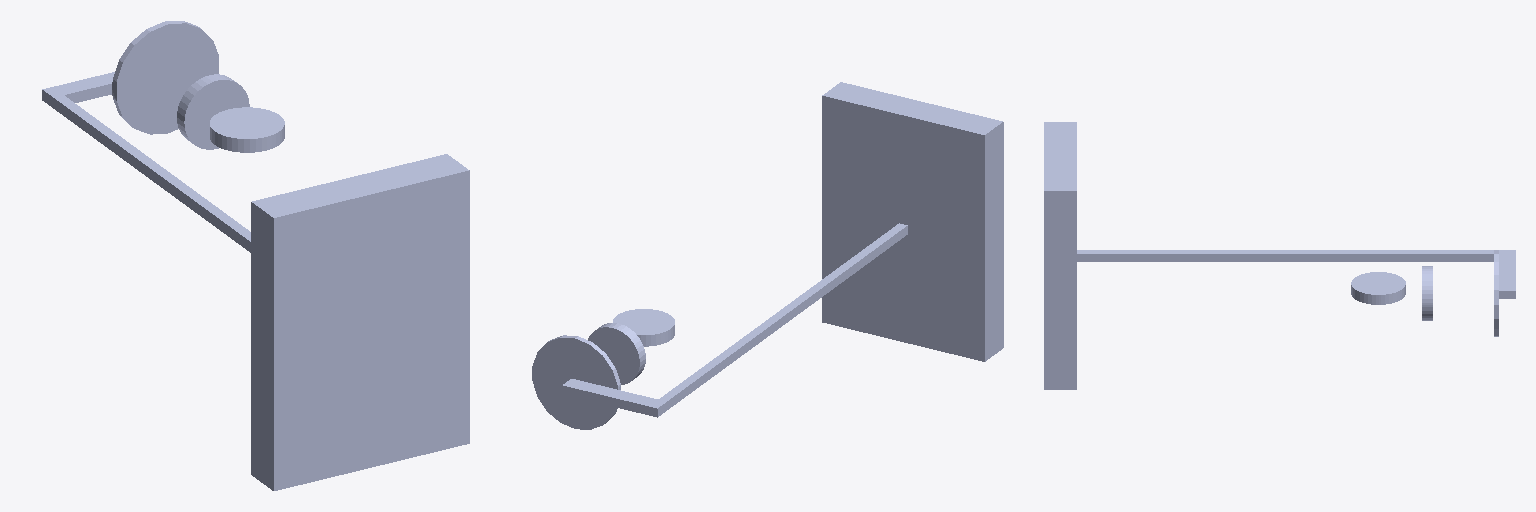
The robot description file, URDF, robot "virtual3":
<?xml version="1.0" encoding="utf-8"?>
<!-- This URDF was automatically created by SolidWorks to URDF Exporter! Originally created by [author] ([email redacted]) 
     Commit Version: 1.6.0-4-g7f85cfe  Build Version: 1.6.7995.38578
     For more information, please see http://wiki.ros.org/sw_urdf_exporter -->
<robot
  name="virtual3">
  <link
    name="base_link">
    <inertial>
      <origin
        xyz="0.00255227024020097 0.0352078548457962 3.46944695195361E-17"
        rpy="0 0 0" />
      <mass
        value="0.960332741228718" />
      <inertia
        ixx="0.00977577773789367"
        ixy="-0.000928977867051058"
        ixz="-1.19338127452496E-19"
        iyy="0.00488912432140511"
        iyz="2.35718986143013E-18"
        izz="0.00864442039964914" />
    </inertial>
    <visual>
      <origin
        xyz="0 0 0"
        rpy="0 0 0" />
      <geometry>
        <mesh
          filename="package://virtual3/meshes/base_link.STL" />
      </geometry>
      <material
        name="">
        <color
          rgba="0.792156862745098 0.819607843137255 0.933333333333333 1" />
      </material>
    </visual>
    <collision>
      <origin
        xyz="0 0 0"
        rpy="0 0 0" />
      <geometry>
        <mesh
          filename="package://virtual3/meshes/base_link.STL" />
      </geometry>
    </collision>
  </link>
  <link
    name="sec01">
    <inertial>
      <origin
        xyz="0 0.0200000000000001 0"
        rpy="0 0 0" />
      <mass
        value="0.0196349540849362" />
      <inertia
        ixx="3.23158619314575E-06"
        ixy="6.44898432852067E-39"
        ixz="0"
        iyy="6.13592315154257E-06"
        iyz="4.74299031266813E-39"
        izz="3.23158619314575E-06" />
    </inertial>
    <visual>
      <origin
        xyz="0 0 0"
        rpy="0 0 0" />
      <geometry>
        <mesh
          filename="package://virtual3/meshes/sec01.STL" />
      </geometry>
      <material
        name="">
        <color
          rgba="0.792156862745098 0.819607843137255 0.933333333333333 1" />
      </material>
    </visual>
    <collision>
      <origin
        xyz="0 0 0"
        rpy="0 0 0" />
      <geometry>
        <mesh
          filename="package://virtual3/meshes/sec01.STL" />
      </geometry>
    </collision>
  </link>
  <joint
    name="joint01"
    type="continuous">
    <origin
      xyz="0.080717 0.385 0"
      rpy="0 0 0" />
    <parent
      link="base_link" />
    <child
      link="sec01" />
    <axis
      xyz="0 1 0" />
    <limit
      lower="-1.571"
      upper="1.571"
      effort="100"
      velocity="0" />
  </joint>
  <link
    name="sec02">
    <inertial>
      <origin
        xyz="0 0.005 0"
        rpy="0 0 0" />
      <mass
        value="0.0196349540849362" />
      <inertia
        ixx="3.23158619314575E-06"
        ixy="6.44898432852067E-39"
        ixz="0"
        iyy="6.13592315154257E-06"
        iyz="4.74299031266813E-39"
        izz="3.23158619314575E-06" />
    </inertial>
    <visual>
      <origin
        xyz="0 0 0"
        rpy="0 0 0" />
      <geometry>
        <mesh
          filename="package://virtual3/meshes/sec02.STL" />
      </geometry>
      <material
        name="">
        <color
          rgba="0.792156862745098 0.819607843137255 0.933333333333333 1" />
      </material>
    </visual>
    <collision>
      <origin
        xyz="0 0 0"
        rpy="0 0 0" />
      <geometry>
        <mesh
          filename="package://virtual3/meshes/sec02.STL" />
      </geometry>
    </collision>
  </link>
  <joint
    name="joint02"
    type="revolute">
    <origin
      xyz="0 -0.02 0"
      rpy="0 0 0" />
    <parent
      link="sec01" />
    <child
      link="sec02" />
    <axis
      xyz="0 0 0" />
    <limit
      lower="-1.571"
      upper="1.571"
      effort="100"
      velocity="0" />
  </joint>
  <link
    name="sec03">
    <inertial>
      <origin
        xyz="0 0.005 0"
        rpy="0 0 0" />
      <mass
        value="0.0196349540849362" />
      <inertia
        ixx="3.23158619314575E-06"
        ixy="6.44898432852067E-39"
        ixz="0"
        iyy="6.13592315154257E-06"
        iyz="4.74299031266813E-39"
        izz="3.23158619314575E-06" />
    </inertial>
    <visual>
      <origin
        xyz="0 0 0"
        rpy="0 0 0" />
      <geometry>
        <mesh
          filename="package://virtual3/meshes/sec03.STL" />
      </geometry>
      <material
        name="">
        <color
          rgba="0.792156862745098 0.819607843137255 0.933333333333333 1" />
      </material>
    </visual>
    <collision>
      <origin
        xyz="0 0 0"
        rpy="0 0 0" />
      <geometry>
        <mesh
          filename="package://virtual3/meshes/sec03.STL" />
      </geometry>
    </collision>
  </link>
  <joint
    name="joint03"
    type="revolute">
    <origin
      xyz="0 -0.02 0"
      rpy="0 0 0" />
    <parent
      link="sec02" />
    <child
      link="sec03" />
    <axis
      xyz="0 0 0" />
    <limit
      lower="-1.571"
      upper="1.571"
      effort="100"
      velocity="0" />
  </joint>
  <link
    name="sec04">
    <inertial>
      <origin
        xyz="0 0.00499999999999995 0"
        rpy="0 0 0" />
      <mass
        value="0.0196349540849362" />
      <inertia
        ixx="3.23158619314575E-06"
        ixy="6.44898432852067E-39"
        ixz="0"
        iyy="6.13592315154257E-06"
        iyz="4.74299031266813E-39"
        izz="3.23158619314575E-06" />
    </inertial>
    <visual>
      <origin
        xyz="0 0 0"
        rpy="0 0 0" />
      <geometry>
        <mesh
          filename="package://virtual3/meshes/sec04.STL" />
      </geometry>
      <material
        name="">
        <color
          rgba="0.792156862745098 0.819607843137255 0.933333333333333 1" />
      </material>
    </visual>
    <collision>
      <origin
        xyz="0 0 0"
        rpy="0 0 0" />
      <geometry>
        <mesh
          filename="package://virtual3/meshes/sec04.STL" />
      </geometry>
    </collision>
  </link>
  <joint
    name="joint04"
    type="revolute">
    <origin
      xyz="0 -0.02 0"
      rpy="0 0 0" />
    <parent
      link="sec03" />
    <child
      link="sec04" />
    <axis
      xyz="0 0 0" />
    <limit
      lower="-1.571"
      upper="1.571"
      effort="100"
      velocity="0" />
  </joint>
  <link
    name="sec05">
    <inertial>
      <origin
        xyz="0 0.00499999999999995 0"
        rpy="0 0 0" />
      <mass
        value="0.0196349540849362" />
      <inertia
        ixx="3.23158619314575E-06"
        ixy="6.44898432852067E-39"
        ixz="0"
        iyy="6.13592315154257E-06"
        iyz="4.74299031266813E-39"
        izz="3.23158619314575E-06" />
    </inertial>
    <visual>
      <origin
        xyz="0 0 0"
        rpy="0 0 0" />
      <geometry>
        <mesh
          filename="package://virtual3/meshes/sec05.STL" />
      </geometry>
      <material
        name="">
        <color
          rgba="0.792156862745098 0.819607843137255 0.933333333333333 1" />
      </material>
    </visual>
    <collision>
      <origin
        xyz="0 0 0"
        rpy="0 0 0" />
      <geometry>
        <mesh
          filename="package://virtual3/meshes/sec05.STL" />
      </geometry>
    </collision>
  </link>
  <joint
    name="joint05"
    type="revolute">
    <origin
      xyz="0 -0.02 0"
      rpy="0 0 0" />
    <parent
      link="sec04" />
    <child
      link="sec05" />
    <axis
      xyz="0 0 0" />
    <limit
      lower="-1.571"
      upper="1.571"
      effort="100"
      velocity="0" />
  </joint>
  <link
    name="sec06">
    <inertial>
      <origin
        xyz="0 0.005 0"
        rpy="0 0 0" />
      <mass
        value="0.0196349540849362" />
      <inertia
        ixx="3.23158619314575E-06"
        ixy="6.44898432852067E-39"
        ixz="0"
        iyy="6.13592315154257E-06"
        iyz="4.74299031266813E-39"
        izz="3.23158619314575E-06" />
    </inertial>
    <visual>
      <origin
        xyz="0 0 0"
        rpy="0 0 0" />
      <geometry>
        <mesh
          filename="package://virtual3/meshes/sec06.STL" />
      </geometry>
      <material
        name="">
        <color
          rgba="0.792156862745098 0.819607843137255 0.933333333333333 1" />
      </material>
    </visual>
    <collision>
      <origin
        xyz="0 0 0"
        rpy="0 0 0" />
      <geometry>
        <mesh
          filename="package://virtual3/meshes/sec06.STL" />
      </geometry>
    </collision>
  </link>
  <joint
    name="joint06"
    type="revolute">
    <origin
      xyz="0 -0.02 0"
      rpy="0 0 0" />
    <parent
      link="sec05" />
    <child
      link="sec06" />
    <axis
      xyz="0 0 0" />
    <limit
      lower="-1.571"
      upper="1.571"
      effort="100"
      velocity="0" />
  </joint>
  <link
    name="sec07">
    <inertial>
      <origin
        xyz="0 0.00499999999999995 0"
        rpy="0 0 0" />
      <mass
        value="0.0196349540849362" />
      <inertia
        ixx="3.23158619314575E-06"
        ixy="6.44898432852067E-39"
        ixz="0"
        iyy="6.13592315154257E-06"
        iyz="4.74299031266813E-39"
        izz="3.23158619314575E-06" />
    </inertial>
    <visual>
      <origin
        xyz="0 0 0"
        rpy="0 0 0" />
      <geometry>
        <mesh
          filename="package://virtual3/meshes/sec07.STL" />
      </geometry>
      <material
        name="">
        <color
          rgba="0.792156862745098 0.819607843137255 0.933333333333333 1" />
      </material>
    </visual>
    <collision>
      <origin
        xyz="0 0 0"
        rpy="0 0 0" />
      <geometry>
        <mesh
          filename="package://virtual3/meshes/sec07.STL" />
      </geometry>
    </collision>
  </link>
  <joint
    name="joint07"
    type="revolute">
    <origin
      xyz="0 -0.02 0"
      rpy="0 0 0" />
    <parent
      link="sec06" />
    <child
      link="sec07" />
    <axis
      xyz="0 0 0" />
    <limit
      lower="-1.571"
      upper="1.571"
      effort="100"
      velocity="0" />
  </joint>
  <link
    name="sec08">
    <inertial>
      <origin
        xyz="0 0.005 0"
        rpy="0 0 0" />
      <mass
        value="0.0196349540849362" />
      <inertia
        ixx="3.23158619314575E-06"
        ixy="6.44898432852067E-39"
        ixz="0"
        iyy="6.13592315154257E-06"
        iyz="4.74299031266813E-39"
        izz="3.23158619314575E-06" />
    </inertial>
    <visual>
      <origin
        xyz="0 0 0"
        rpy="0 0 0" />
      <geometry>
        <mesh
          filename="package://virtual3/meshes/sec08.STL" />
      </geometry>
      <material
        name="">
        <color
          rgba="0.792156862745098 0.819607843137255 0.933333333333333 1" />
      </material>
    </visual>
    <collision>
      <origin
        xyz="0 0 0"
        rpy="0 0 0" />
      <geometry>
        <mesh
          filename="package://virtual3/meshes/sec08.STL" />
      </geometry>
    </collision>
  </link>
  <joint
    name="joint08"
    type="revolute">
    <origin
      xyz="0 -0.02 0"
      rpy="0 0 0" />
    <parent
      link="sec07" />
    <child
      link="sec08" />
    <axis
      xyz="0 0 0" />
    <limit
      lower="-1.571"
      upper="1.571"
      effort="100"
      velocity="0" />
  </joint>
  <link
    name="sec09">
    <inertial>
      <origin
        xyz="0 0.00499999999999998 0"
        rpy="0 0 0" />
      <mass
        value="0.0196349540849362" />
      <inertia
        ixx="3.23158619314575E-06"
        ixy="-2.22427428810535E-37"
        ixz="-3.3136311751555E-53"
        iyy="6.13592315154255E-06"
        iyz="4.74299031266811E-39"
        izz="3.23158619314574E-06" />
    </inertial>
    <visual>
      <origin
        xyz="0 0 0"
        rpy="0 0 0" />
      <geometry>
        <mesh
          filename="package://virtual3/meshes/sec09.STL" />
      </geometry>
      <material
        name="">
        <color
          rgba="0.792156862745098 0.819607843137255 0.933333333333333 1" />
      </material>
    </visual>
    <collision>
      <origin
        xyz="0 0 0"
        rpy="0 0 0" />
      <geometry>
        <mesh
          filename="package://virtual3/meshes/sec09.STL" />
      </geometry>
    </collision>
  </link>
  <joint
    name="joint09"
    type="revolute">
    <origin
      xyz="0 -0.02 0"
      rpy="0 0 0" />
    <parent
      link="sec08" />
    <child
      link="sec09" />
    <axis
      xyz="0 0 0" />
    <limit
      lower="-1.571"
      upper="1.571"
      effort="100"
      velocity="0" />
  </joint>
  <link
    name="sec10">
    <inertial>
      <origin
        xyz="0 0.00499999999999995 0"
        rpy="0 0 0" />
      <mass
        value="0.0196349540849362" />
      <inertia
        ixx="3.23158619314575E-06"
        ixy="6.44898432852067E-39"
        ixz="0"
        iyy="6.13592315154257E-06"
        iyz="4.74299031266813E-39"
        izz="3.23158619314575E-06" />
    </inertial>
    <visual>
      <origin
        xyz="0 0 0"
        rpy="0 0 0" />
      <geometry>
        <mesh
          filename="package://virtual3/meshes/sec10.STL" />
      </geometry>
      <material
        name="">
        <color
          rgba="0.792156862745098 0.819607843137255 0.933333333333333 1" />
      </material>
    </visual>
    <collision>
      <origin
        xyz="0 0 0"
        rpy="0 0 0" />
      <geometry>
        <mesh
          filename="package://virtual3/meshes/sec10.STL" />
      </geometry>
    </collision>
  </link>
  <joint
    name="joint10"
    type="revolute">
    <origin
      xyz="0 -0.02 0"
      rpy="0 0 0" />
    <parent
      link="sec09" />
    <child
      link="sec10" />
    <axis
      xyz="0 0 0" />
    <limit
      lower="-1.571"
      upper="1.571"
      effort="100"
      velocity="0" />
  </joint>
</robot>

--- What the picture shows (computed from the rendered views, not written in the file) ---
The picture shows the robot from 3 angles, left to right: view 1: azimuth 30°, elevation 25°; view 2: azimuth 150°, elevation 25°; view 3: azimuth 270°, elevation 25°; orthographic projection.
Robot: virtual3 — 11 links, 10 joints (9 revolute, 1 continuous); root link base_link; default pose: every joint at zero.
Visible links, largest first — view 1: base_link, sec03, sec05; view 2: base_link, sec03, sec05; view 3: base_link, sec05, sec03.
Link boxes in pixels (x1,y1,x2,y2): base_link: (42, 21, 469, 490); sec03: (177, 74, 249, 149); sec05: (210, 107, 284, 152); base_link: (532, 82, 1003, 429); sec03: (588, 323, 645, 384); sec05: (613, 309, 674, 346); base_link: (1044, 122, 1515, 389); sec05: (1351, 272, 1405, 304); sec03: (1422, 266, 1432, 320).
Size in the robot's own frame: 0.1951 by 0.43 by 0.2 metres.
Meshes: 11 distinct files referenced, 3 mesh visuals loaded (3 binary STL); not drawn: 8 (reference not matched to a file when rendering).